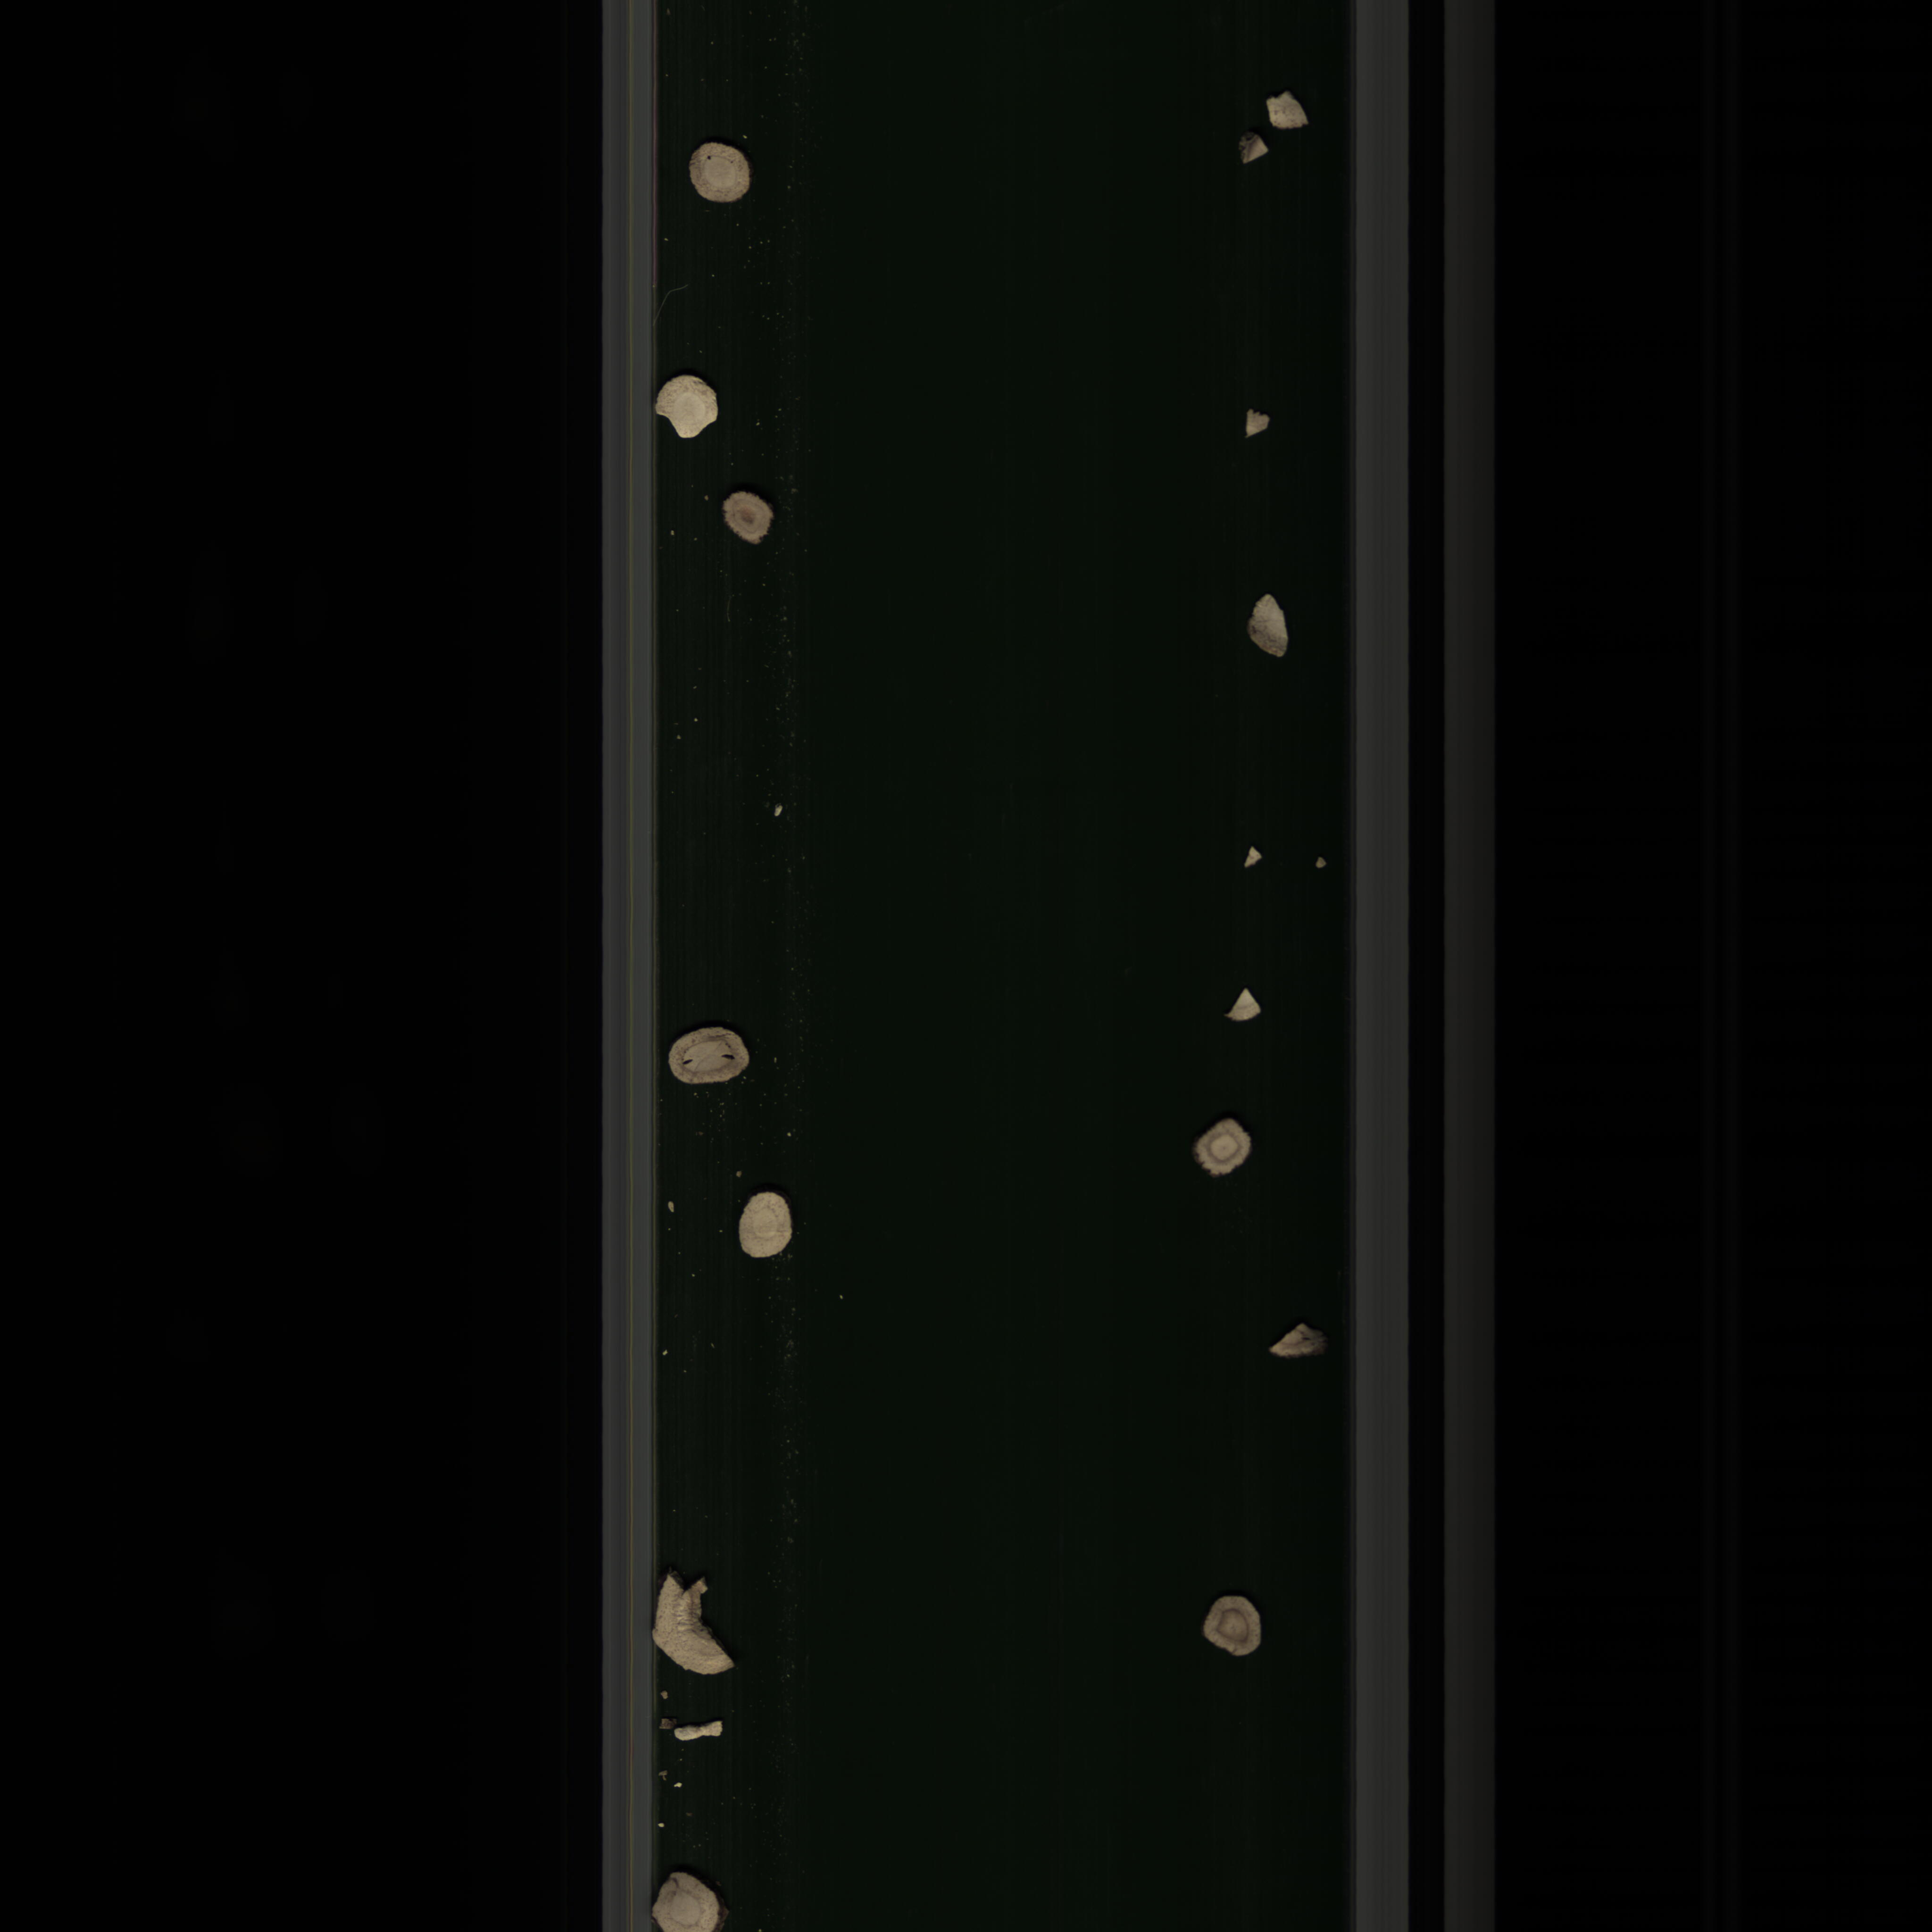bark: (1263, 1315, 1336, 1369), (1228, 127, 1284, 172)
debris: (655, 1569, 747, 1686), (656, 370, 731, 446), (1242, 593, 1304, 660), (1263, 87, 1323, 140), (1217, 982, 1272, 1024), (671, 1723, 734, 1753), (1238, 402, 1281, 444), (1242, 840, 1269, 878), (1313, 849, 1338, 879)
hole: (663, 1021, 770, 1097)
moldy: (1196, 1591, 1274, 1665), (718, 483, 782, 554)
